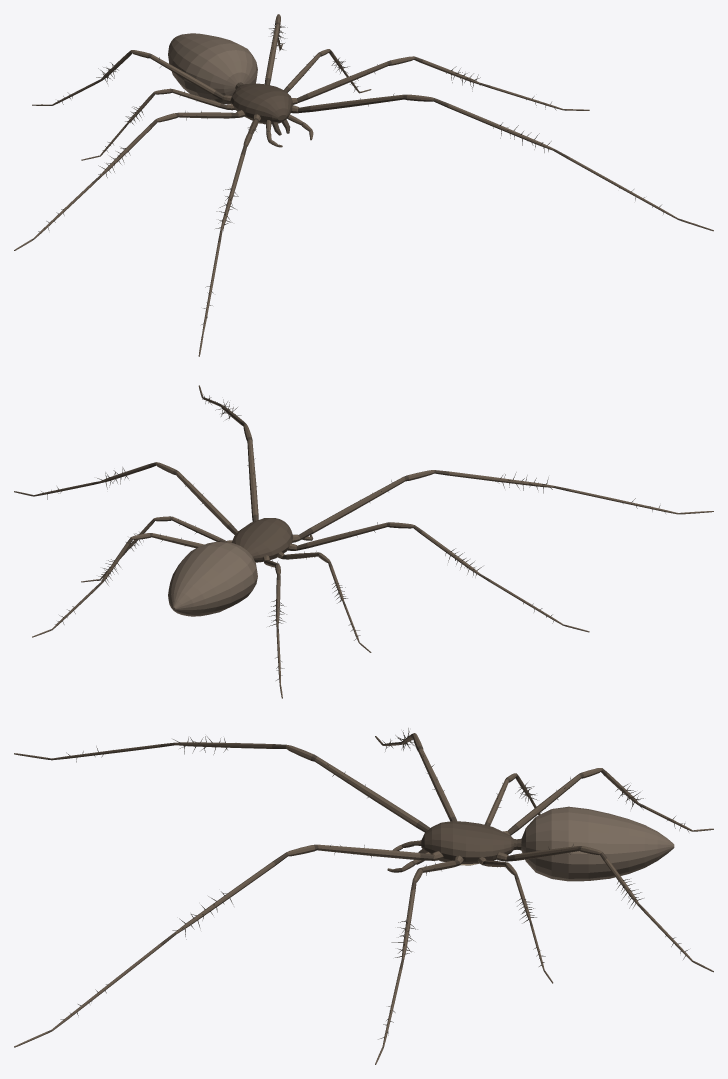
3 views of the same model, one above another, from view 1: azimuth 30°, elevation 25°; view 2: azimuth 150°, elevation 25°; view 3: azimuth 270°, elevation 25° (orthographic). The views are drawn at different scales.
Parts seen in each view (by area): view 1: abdomen, walking-leg-1-R, carapace, walking-leg-2-R, walking-leg-2-L, walking-leg-4-L, walking-leg-1-L, walking-leg-3-L; view 2: abdomen, walking-leg-1-L, carapace, walking-leg-2-L, walking-leg-2-R, walking-leg-1-R, walking-leg-4-R, walking-leg-3-L, walking-leg-3-R, walking-leg-4-L; view 3: abdomen, carapace, walking-leg-1-R, walking-leg-1-L, walking-leg-4-R, walking-leg-4-L, walking-leg-2-R, walking-leg-2-L, walking-leg-3-R.
Boxes of the visible parts, box(x1,y1,x2,y2) form: abdomen: box(168, 33, 257, 104); walking-leg-1-R: box(291, 94, 713, 231); carapace: box(230, 83, 292, 124); walking-leg-2-R: box(291, 56, 589, 110); walking-leg-2-L: box(14, 110, 244, 250); walking-leg-4-L: box(32, 50, 231, 105); walking-leg-1-L: box(198, 114, 260, 356); walking-leg-3-L: box(81, 88, 234, 160); abdomen: box(168, 541, 257, 616); walking-leg-1-L: box(292, 470, 713, 542); carapace: box(231, 518, 292, 562); walking-leg-2-L: box(288, 522, 589, 632); walking-leg-2-R: box(14, 462, 238, 534); walking-leg-1-R: box(198, 385, 258, 521); walking-leg-4-R: box(32, 533, 204, 637); walking-leg-3-L: box(277, 552, 371, 652); walking-leg-3-R: box(81, 516, 232, 582); walking-leg-4-L: box(262, 555, 282, 698); abdomen: box(521, 806, 674, 881); carapace: box(421, 821, 514, 863); walking-leg-1-R: box(14, 844, 443, 1047); walking-leg-1-L: box(14, 742, 430, 832); walking-leg-4-R: box(496, 846, 713, 972); walking-leg-4-L: box(503, 768, 713, 835); walking-leg-2-R: box(375, 855, 463, 1064); walking-leg-2-L: box(375, 733, 456, 821); walking-leg-3-R: box(477, 857, 553, 983).
Bounding box in the file's own units: 0.0778 × 0.0114 × 0.0701.
